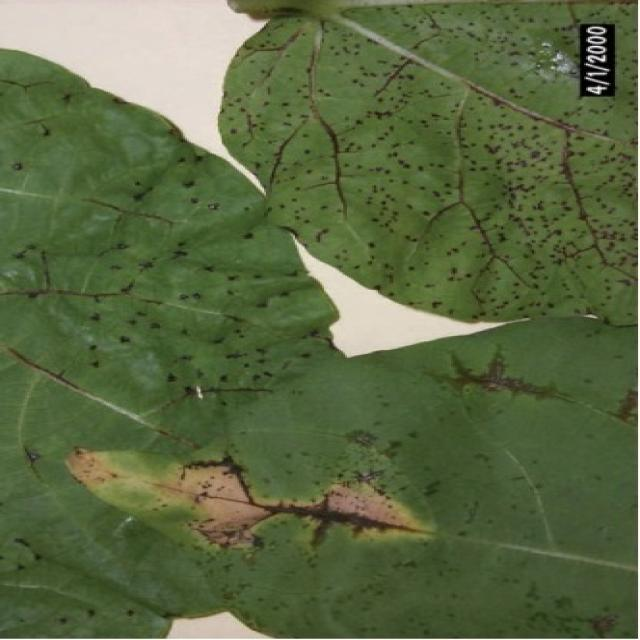Bacterial Blight: (266, 49, 610, 312), (56, 426, 542, 588)
